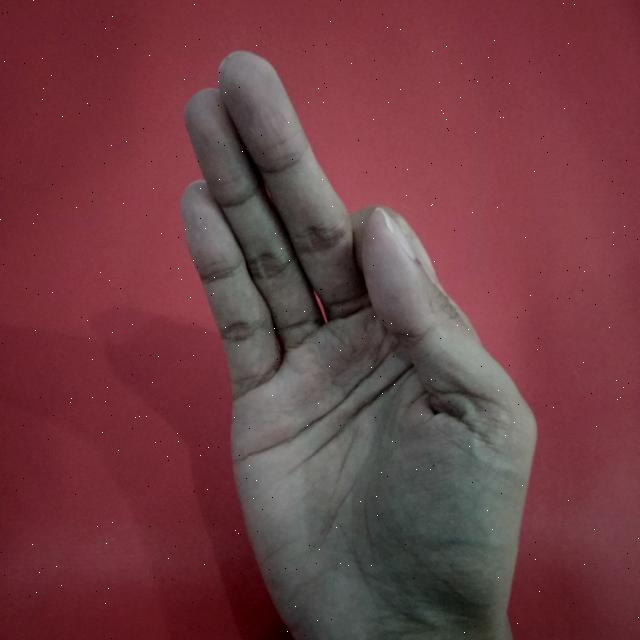F: (176, 47, 542, 640)
